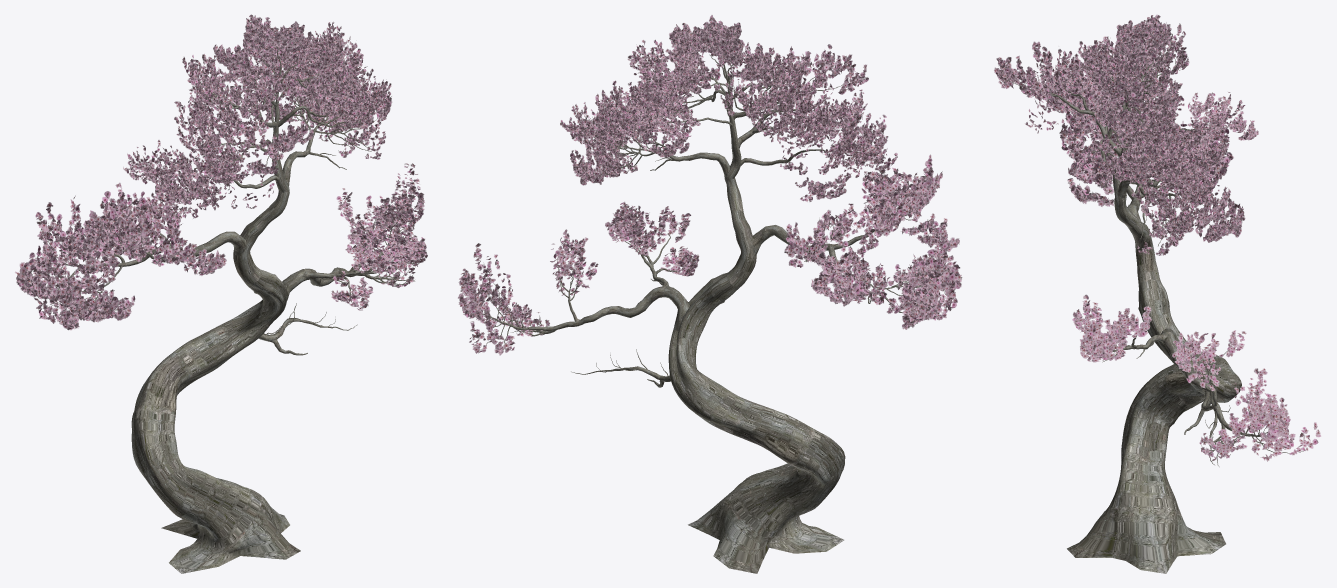
The model's file is cerisier.glb.
3 views of the same model, side by side, from view 1: azimuth 30°, elevation 25°; view 2: azimuth 150°, elevation 25°; view 3: azimuth 270°, elevation 25° (orthographic). The views are drawn at different scales.
Visible parts, largest first — view 1: olqeejih_2K_rsSprite1_0, Oak_Bark_2_SHD_trunk_0; view 2: olqeejih_2K_rsSprite1_0, Oak_Bark_2_SHD_trunk_0; view 3: olqeejih_2K_rsSprite1_0, Oak_Bark_2_SHD_trunk_0.
Boxes of the visible parts, x1,y1,x2,y2 form: olqeejih_2K_rsSprite1_0: [15, 14, 427, 330]; Oak_Bark_2_SHD_trunk_0: [35, 46, 417, 573]; olqeejih_2K_rsSprite1_0: [458, 15, 962, 355]; Oak_Bark_2_SHD_trunk_0: [465, 47, 954, 573]; olqeejih_2K_rsSprite1_0: [994, 14, 1321, 461]; Oak_Bark_2_SHD_trunk_0: [1006, 27, 1305, 573].
Size of the model in its own units: 1.99 by 2.2 by 1.2.
Materials: 2 (2 with a texture image).
